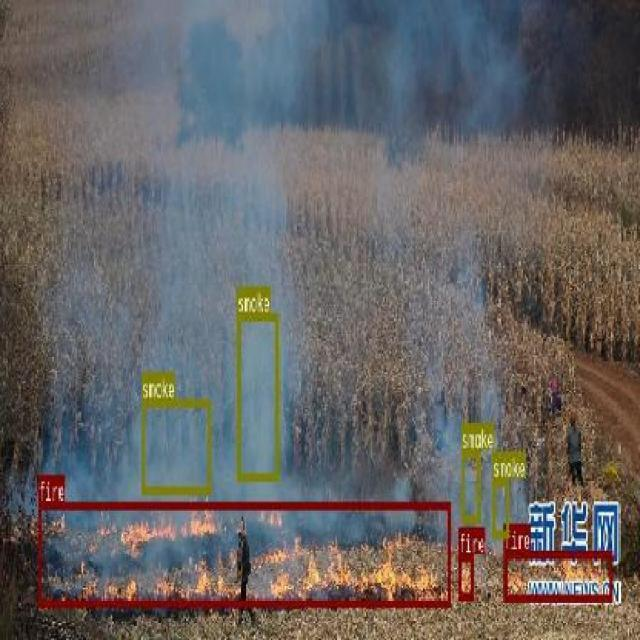Fire: (38, 502, 450, 606), (503, 550, 612, 601), (458, 552, 473, 598)
Smoke: (236, 313, 278, 479), (141, 398, 210, 493), (460, 448, 480, 521), (492, 478, 508, 536)
